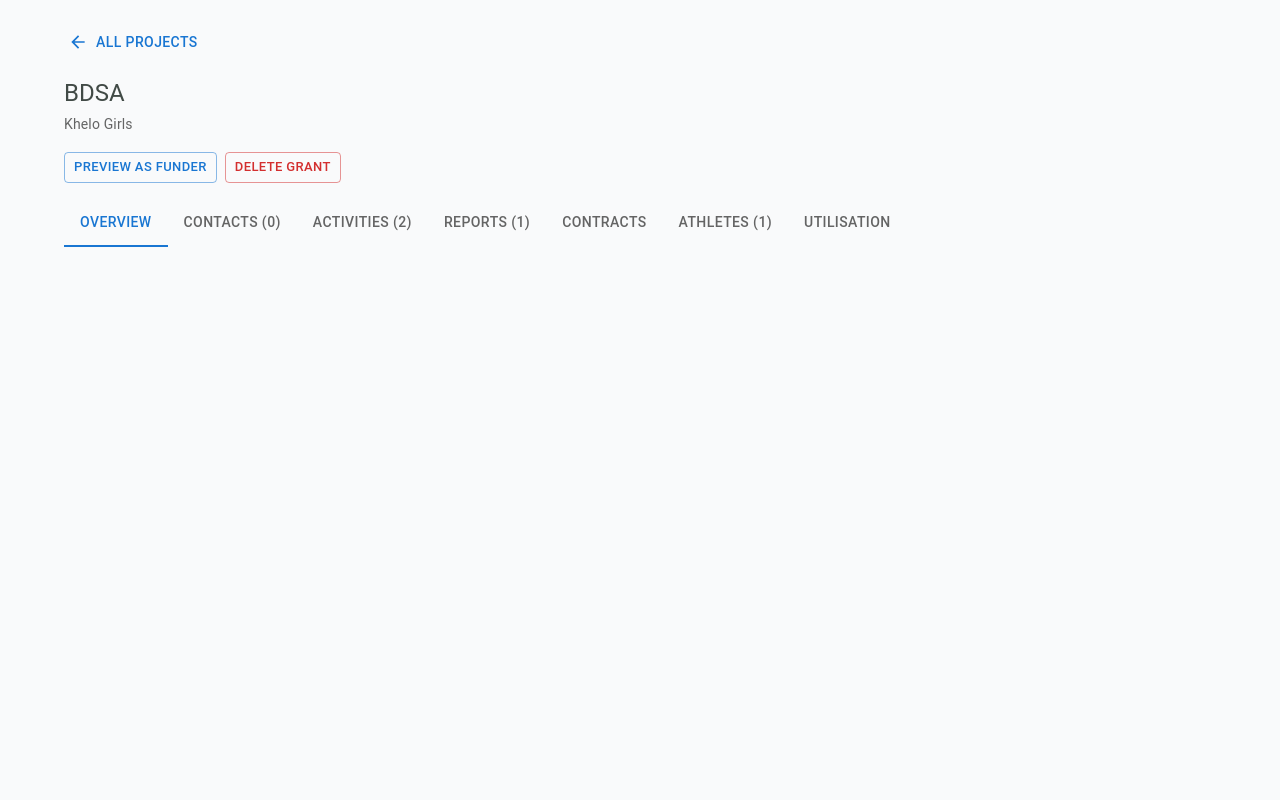
Test: the prompt names what stays attached and where it comes back from
The image size is (1280, 800).
expect the heading "BDSA" is shown: met, box x1=64 y1=78 x2=125 y2=106
Click the button "Delete grant": (283,168) x1=225 y1=152 x2=341 y2=183
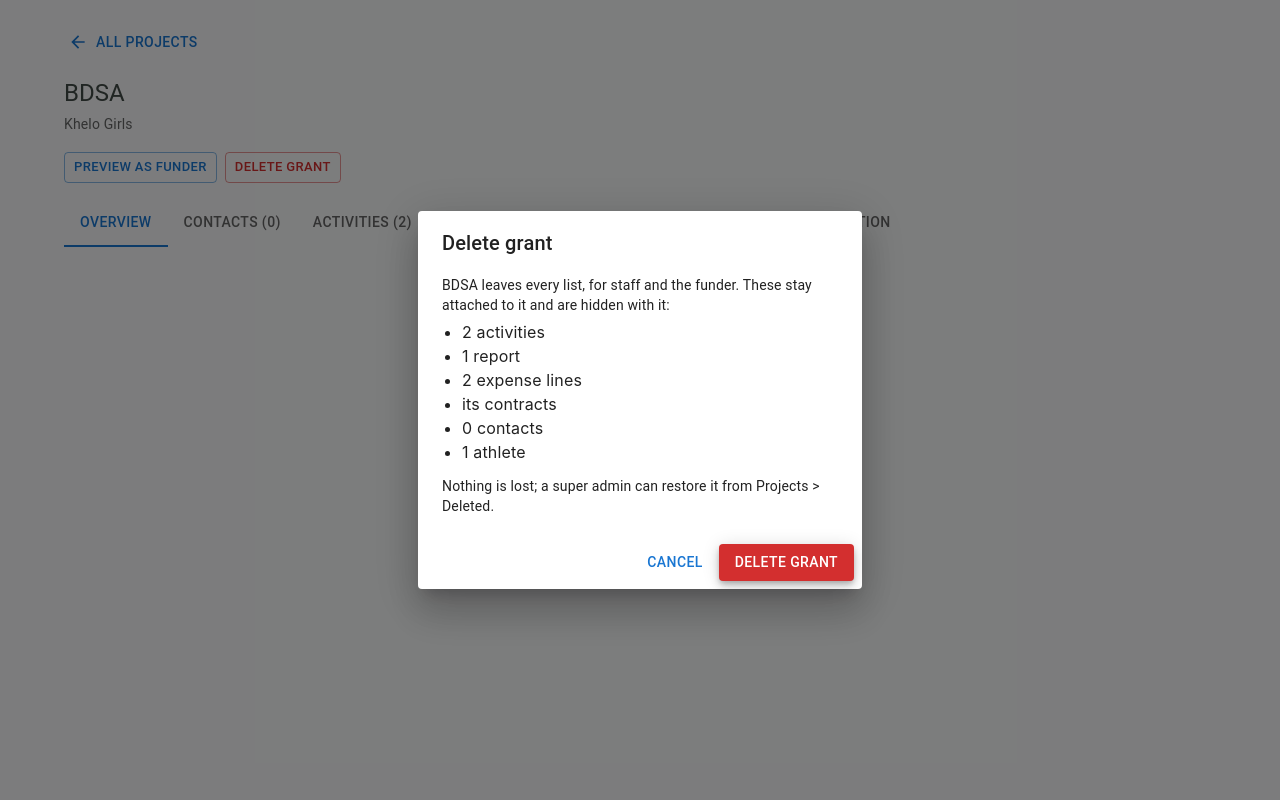
expect the list item "2 activities" is shown: met, box x1=462 y1=322 x2=545 y2=342
expect the list item "1 report" is shown: met, box x1=462 y1=346 x2=520 y2=366
expect the list item "2 expense lines" is shown: met, box x1=462 y1=370 x2=582 y2=390
